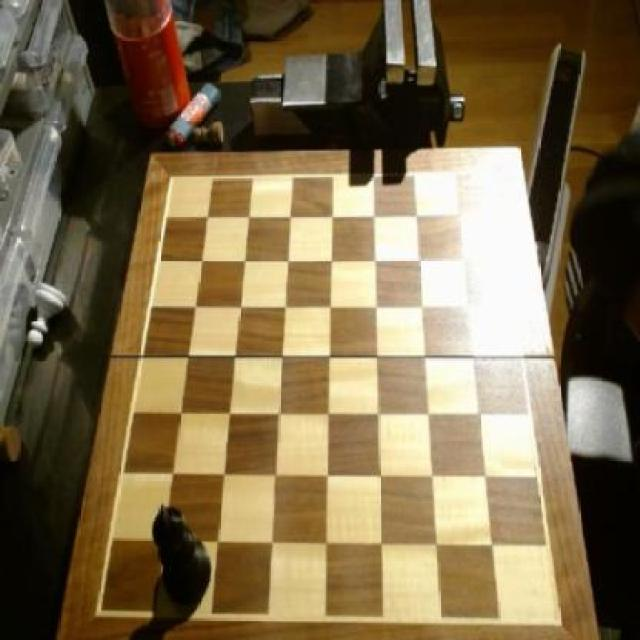black-bishop: (151, 505, 213, 613)
